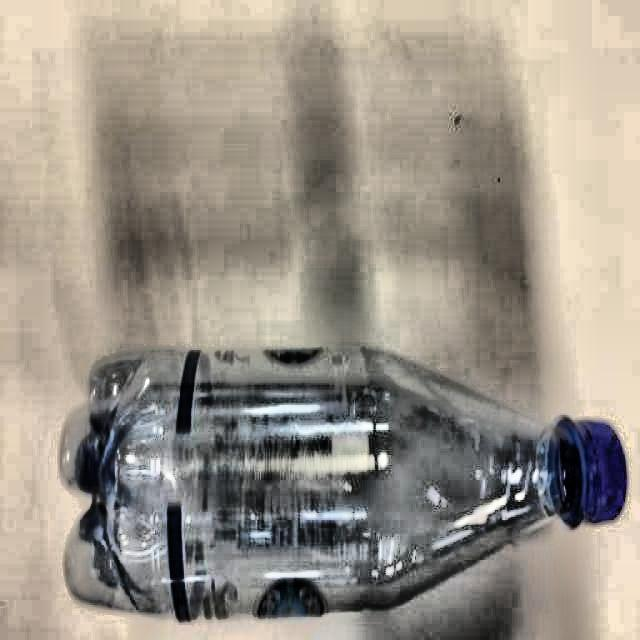plastic bottle: (60, 350, 629, 622)
